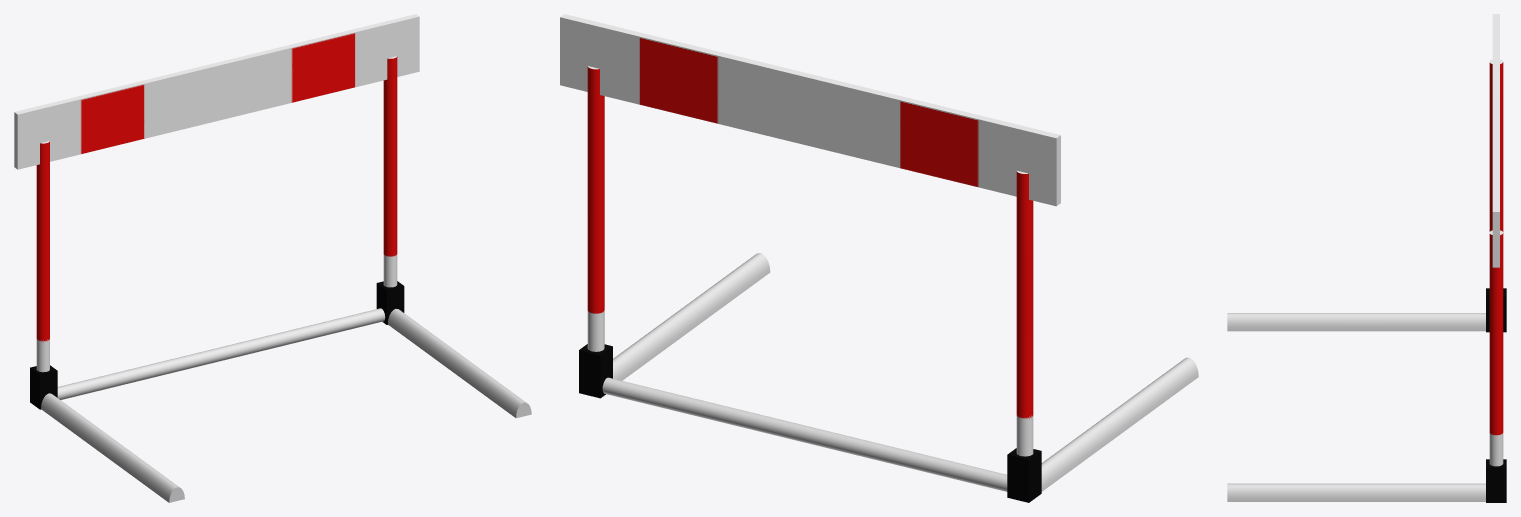
Rendered from hurdle.fbx.
3 renders of one model, left to right at view 1: azimuth 30°, elevation 25°; view 2: azimuth 150°, elevation 25°; view 3: azimuth 270°, elevation 25°, orthographic. The views are drawn at different scales.
Visible parts, largest first — view 1: pCube1, pCylinder3, pCylinder2, pCylinder4, pCylinder5, pCylinder1, pCube3, pCube2; view 2: pCube1, pCylinder3, pCylinder1, pCylinder2, pCylinder4, pCylinder5, pCube3, pCube2; view 3: pCylinder4, pCylinder5, pCylinder2, pCube1, pCylinder1, pCube2, pCube3.
Boxes of the visible parts, bbox=[...] form: pCube1: bbox=[14, 14, 419, 169]; pCylinder3: bbox=[57, 308, 385, 399]; pCylinder2: bbox=[383, 56, 397, 287]; pCylinder4: bbox=[41, 393, 184, 502]; pCylinder5: bbox=[388, 309, 531, 418]; pCylinder1: bbox=[36, 141, 49, 372]; pCube3: bbox=[30, 365, 57, 409]; pCube2: bbox=[376, 281, 404, 324]; pCube1: bbox=[560, 14, 1060, 206]; pCylinder3: bbox=[602, 377, 1007, 491]; pCylinder1: bbox=[1016, 171, 1033, 456]; pCylinder2: bbox=[587, 66, 604, 351]; pCylinder4: bbox=[1041, 357, 1198, 491]; pCylinder5: bbox=[613, 253, 770, 380]; pCube3: bbox=[1007, 448, 1041, 502]; pCube2: bbox=[579, 344, 612, 398]; pCylinder4: bbox=[1227, 313, 1485, 331]; pCylinder5: bbox=[1227, 483, 1485, 501]; pCylinder2: bbox=[1489, 230, 1503, 466]; pCube1: bbox=[1492, 14, 1499, 267]; pCylinder1: bbox=[1489, 59, 1503, 231]; pCube2: bbox=[1486, 459, 1506, 502]; pCube3: bbox=[1486, 288, 1506, 332].
Size of the model in its own units: 7.63 by 5.4 by 4.55.
Materials: 5 (3 with a texture image).
